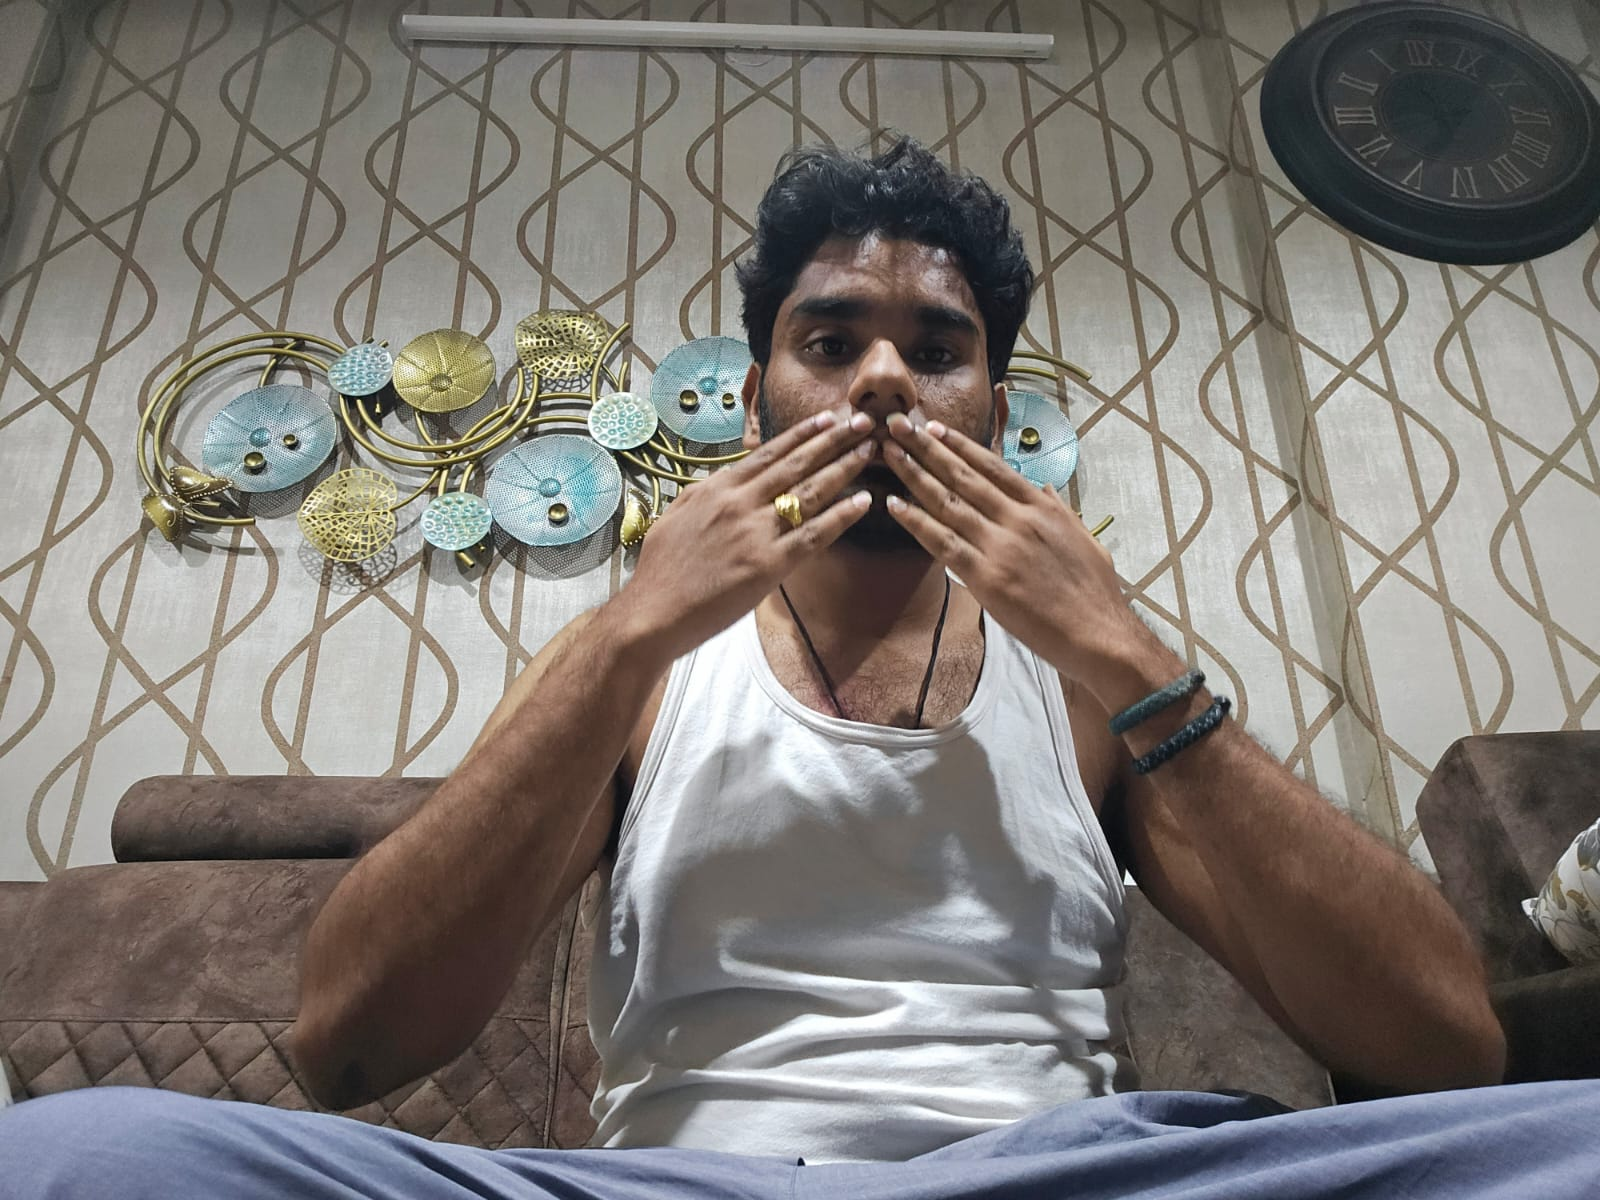thank you: (632, 410, 1128, 662)
